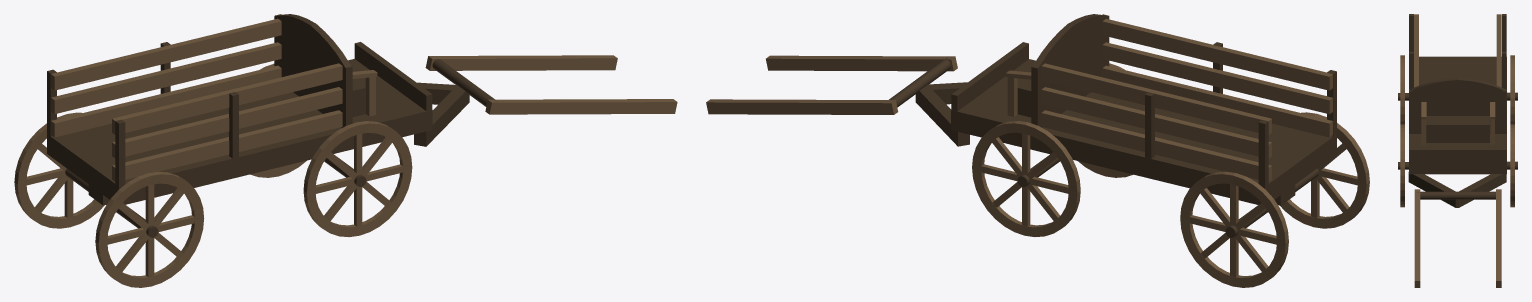
Rendered from HorseCart.glb.
3 renders of one model, left to right at view 1: azimuth 30°, elevation 25°; view 2: azimuth 150°, elevation 25°; view 3: azimuth 270°, elevation 25°, orthographic. The views are drawn at different scales.
Parts seen in each view (by area): view 1: Cart; view 2: Cart; view 3: Cart.
Part boxes in pixels (left/top/right/bottom): Cart: left=14, top=14, right=677, bottom=287; Cart: left=706, top=14, right=1369, bottom=287; Cart: left=1398, top=14, right=1517, bottom=287.
Bounding box in the file's own units: 9.96 × 2.93 × 2.58.
